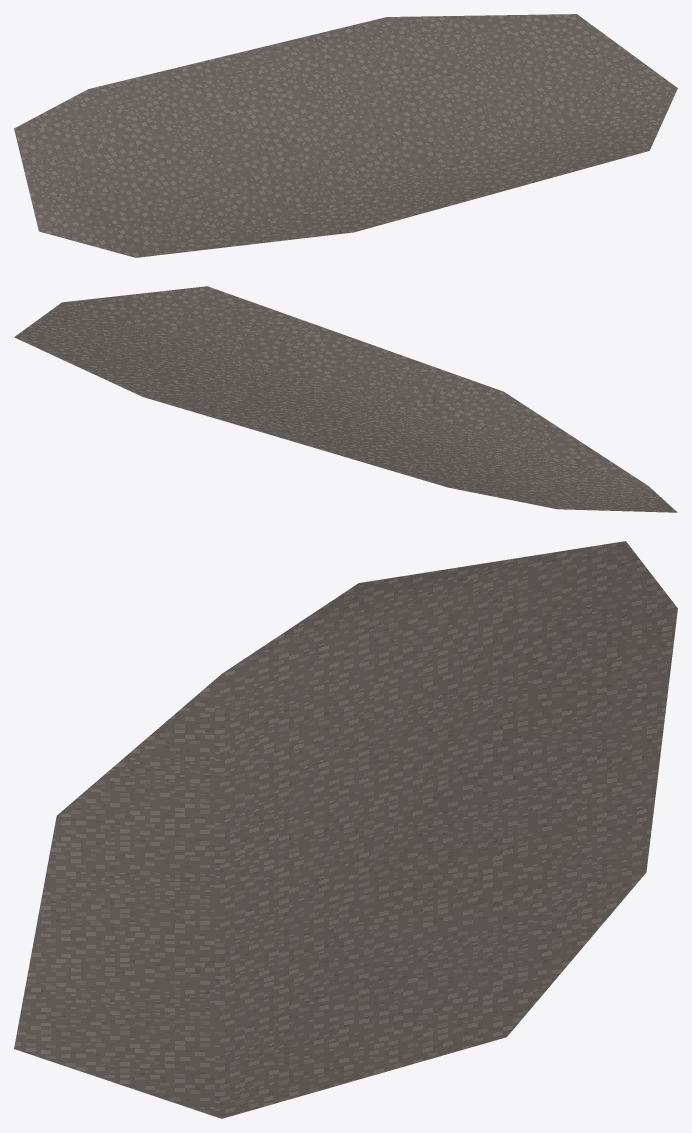
File: kd_stage_135ded_4_133_bounded_piece_1.glb
3 renders of one model, top to bottom at view 1: azimuth 30°, elevation 25°; view 2: azimuth 150°, elevation 25°; view 3: azimuth 270°, elevation 25°, orthographic. The views are drawn at different scales.
Parts seen in each view (by area): view 1: kd_stage_135ded_4_133_bounded_piece_1; view 2: kd_stage_135ded_4_133_bounded_piece_1; view 3: kd_stage_135ded_4_133_bounded_piece_1.
Boxes of the visible parts, x1,y1,x2,y2 form: kd_stage_135ded_4_133_bounded_piece_1: (14, 14, 677, 257); kd_stage_135ded_4_133_bounded_piece_1: (14, 286, 677, 512); kd_stage_135ded_4_133_bounded_piece_1: (14, 541, 677, 1118).
Bounding box in the file's own units: 0.9754 × 0.1141 × 0.4736.
1 material, 1 textured.
